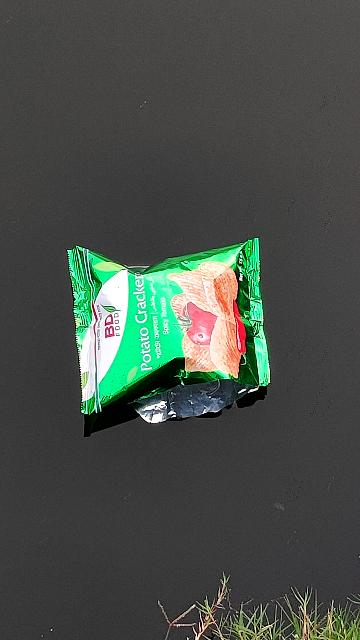packet: (71, 257, 263, 409)
